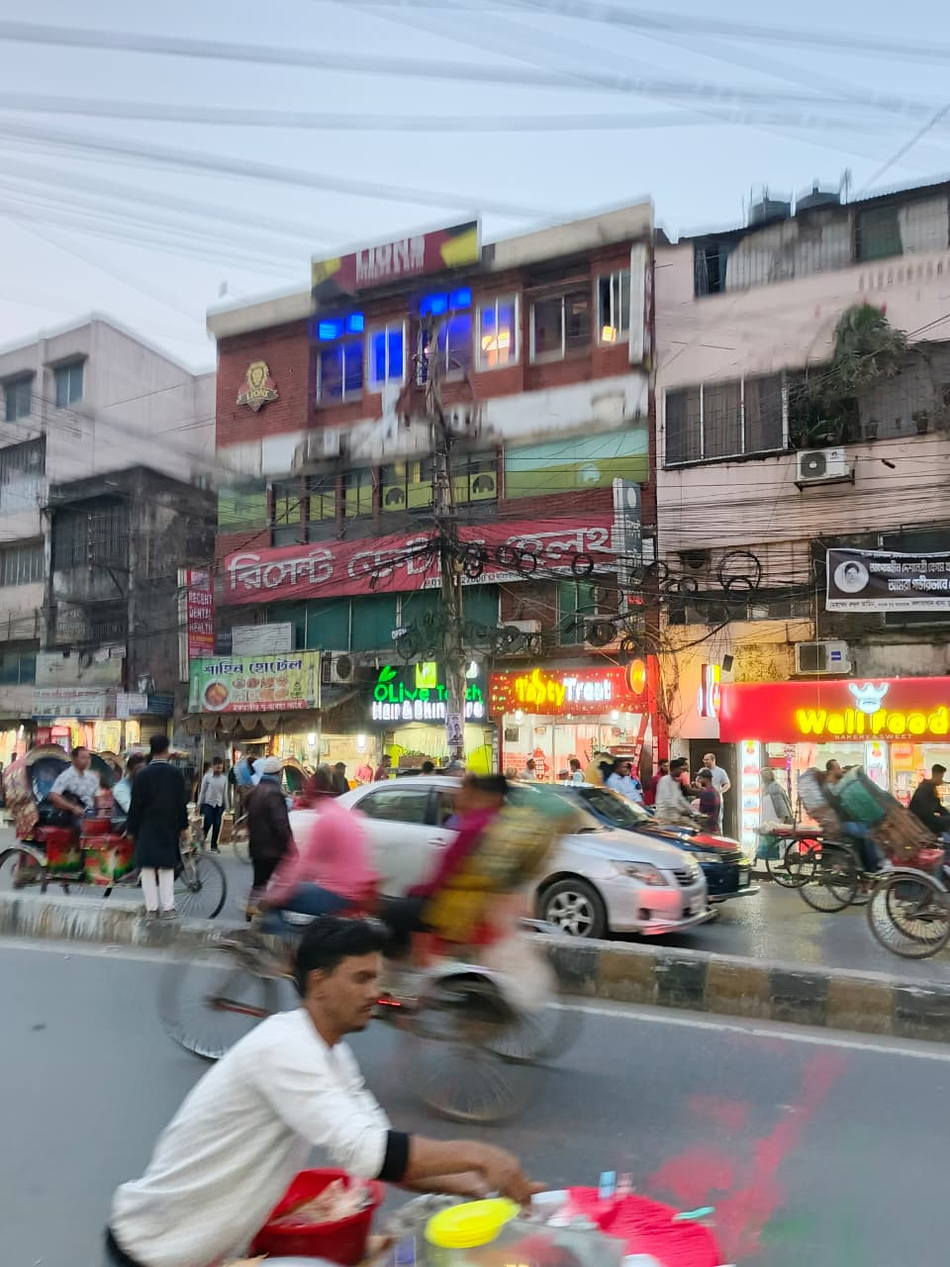auto-ricksaw: (135, 783, 594, 1124), (818, 747, 950, 983)
private car: (264, 740, 726, 950)
